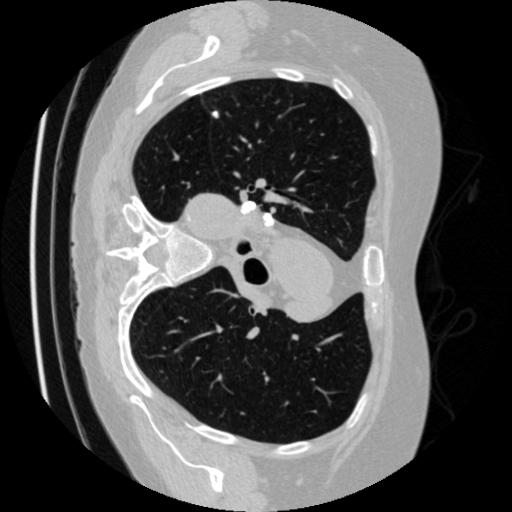nodule: (211, 110, 225, 124)
